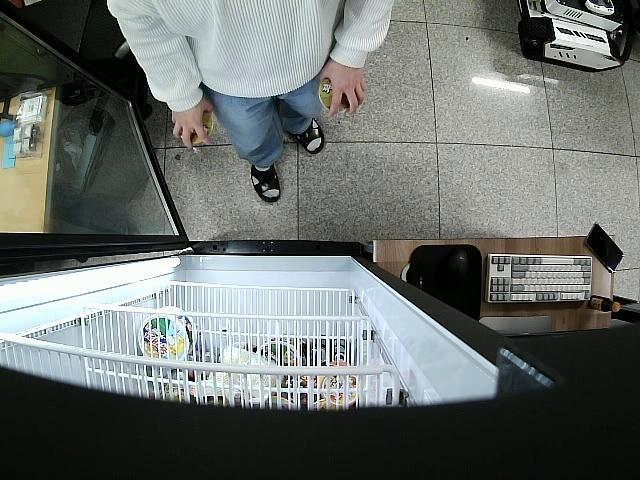04_chapagetti_S: (172, 109, 214, 146), (319, 78, 352, 116)
